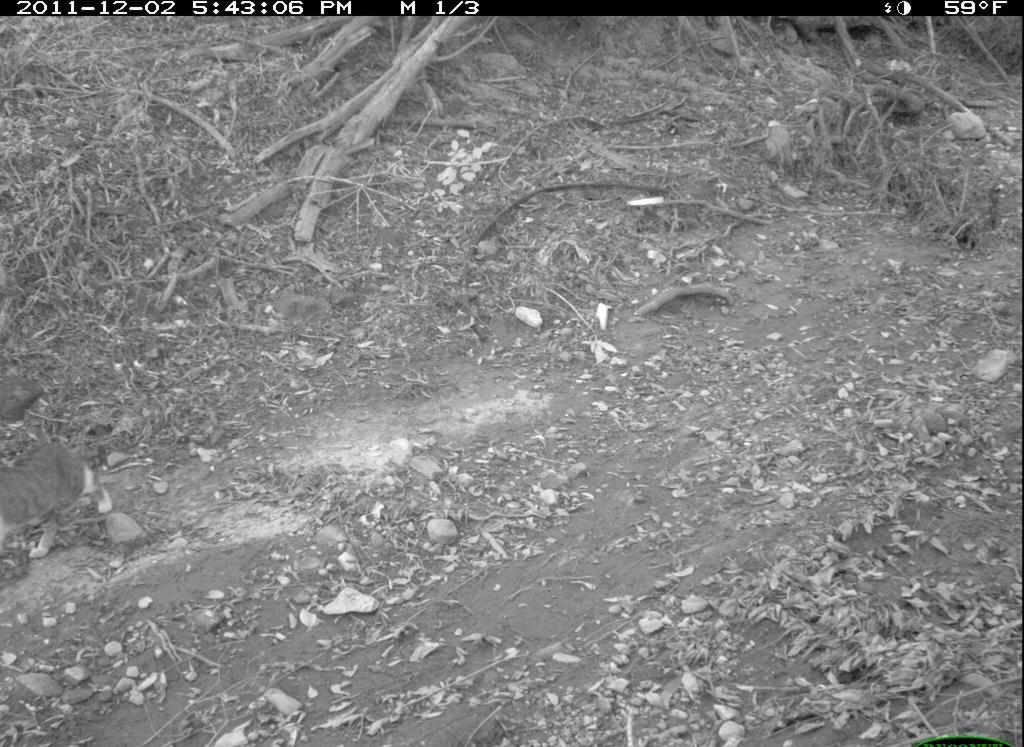cat: (3, 441, 118, 564)
